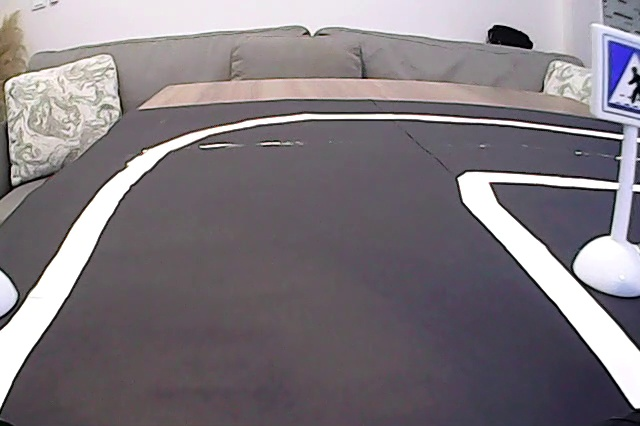pedestrian crossing: (594, 27, 640, 114)
